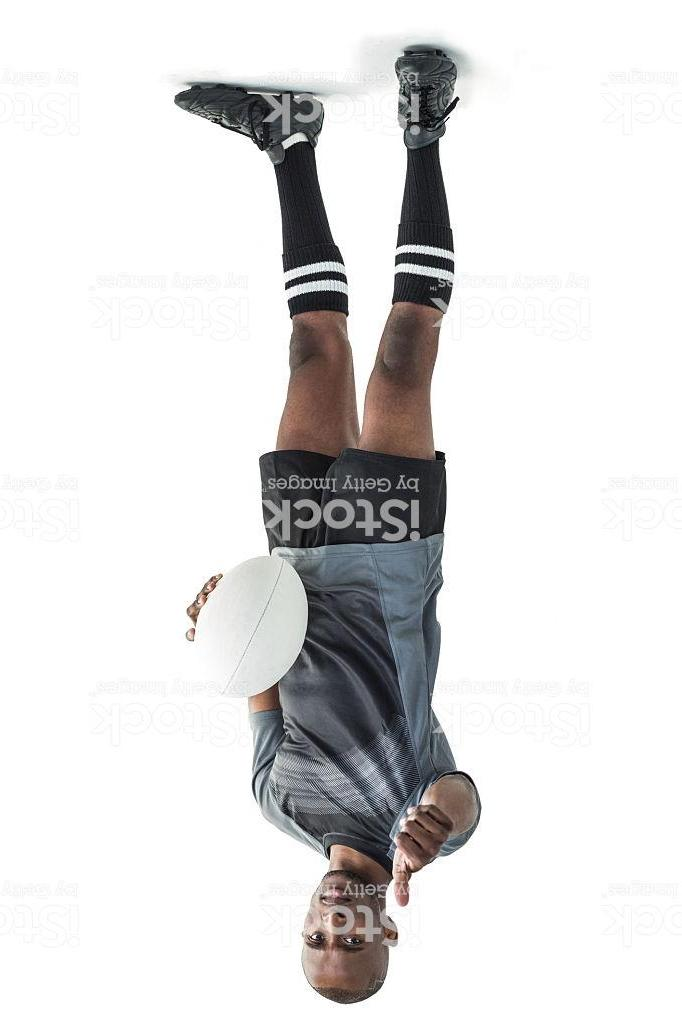thumbsdown: (393, 803, 455, 908)
